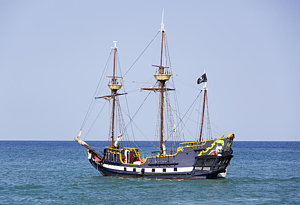Jolly Roger Flag: (196, 72, 208, 85)
